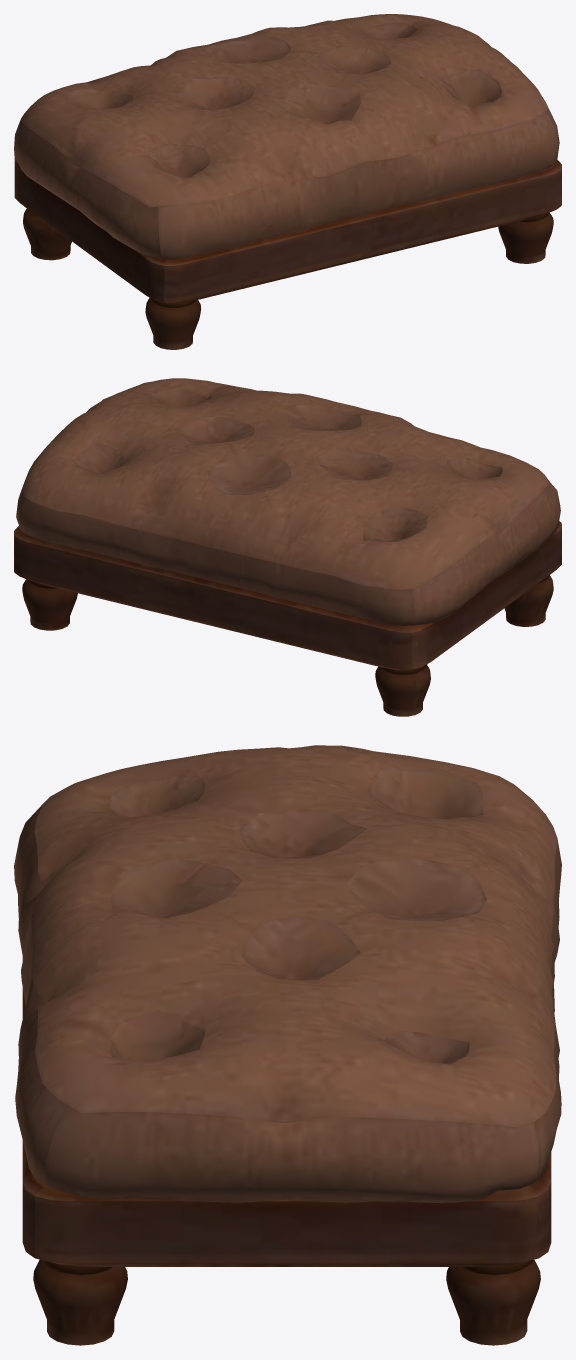
The model's file is SM_Sofa02_cb5907.glb.
3 views of the same model, one above another, from view 1: azimuth 30°, elevation 25°; view 2: azimuth 150°, elevation 25°; view 3: azimuth 270°, elevation 25° (orthographic). The views are drawn at different scales.
Bounding box in the file's own units: 1.45 × 0.5693 × 0.9227.
Materials: 1 (1 with a texture image).
